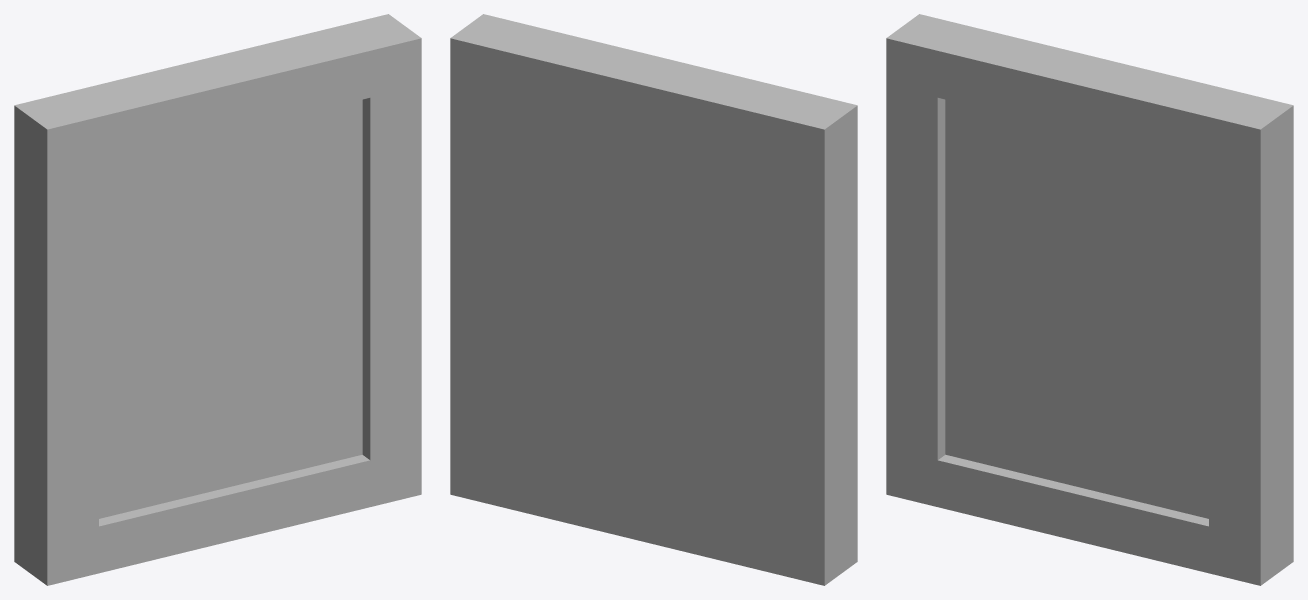
File: Itr_Obj_Frame1_01.FBX
3 renders of one model, left to right at view 1: azimuth 30°, elevation 25°; view 2: azimuth 150°, elevation 25°; view 3: azimuth 330°, elevation 25°, orthographic.
Visible parts, largest first — view 1: Itr_Obj_Frame1_01; view 2: Itr_Obj_Frame1_01; view 3: Itr_Obj_Frame1_01.
Part boxes in pixels (<box>): Itr_Obj_Frame1_01: <box>14,14,421,585</box>; Itr_Obj_Frame1_01: <box>450,14,857,585</box>; Itr_Obj_Frame1_01: <box>886,14,1293,585</box>.
Size of the model in its own units: 15.22 by 17.73 by 2.33.
